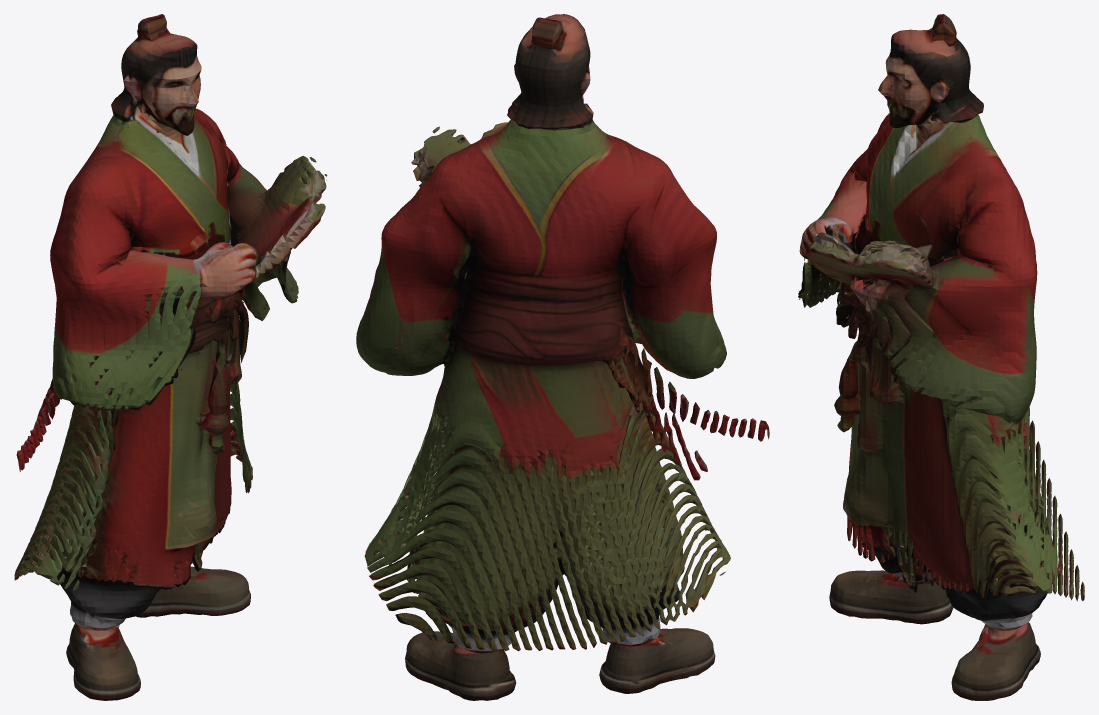
The model's file is body.glb.
3 renders of one model, left to right at view 1: azimuth 30°, elevation 25°; view 2: azimuth 150°, elevation 25°; view 3: azimuth 270°, elevation 25°, orthographic. The views are drawn at different scales.
Parts seen in each view (by area): view 1: geometry_0; view 2: geometry_0; view 3: geometry_0.
Boxes of the visible parts, x1,y1,x2,y2 form: geometry_0: (14, 14, 327, 700); geometry_0: (356, 14, 769, 700); geometry_0: (798, 14, 1084, 700).
Size of the model in its own units: 1.08 by 1.96 by 0.8078.
Materials: 1 (1 with a texture image).
